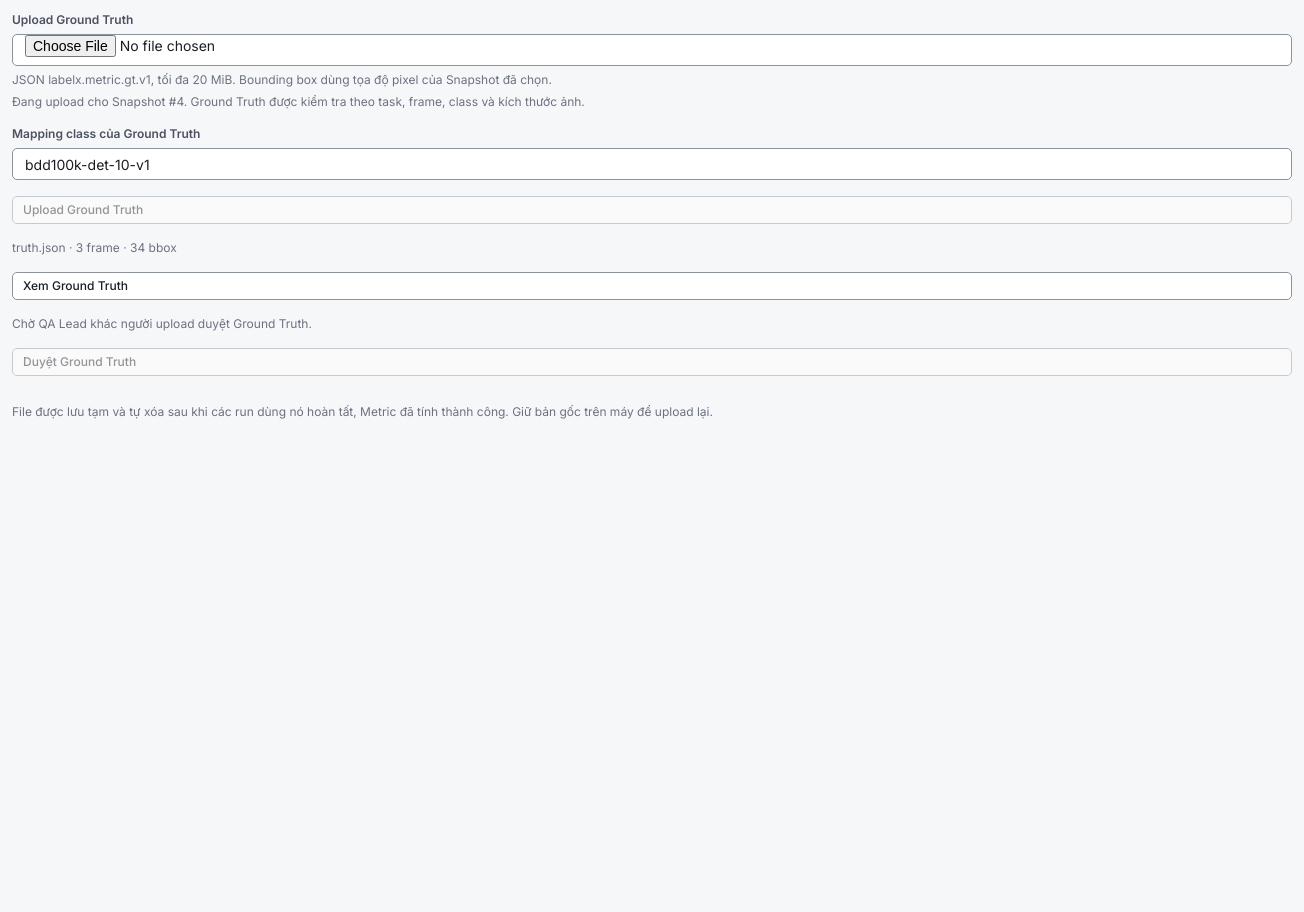
Test: temporary Ground Truth upload › requires preview before approval across snapshots: 4
Expected: the button "Duyệt Ground Truth" is disabled, left=12, top=348, right=1292, bottom=376
Click the button "Xem Ground Truth" at (76, 286), box left=12, top=272, right=1292, bottom=300
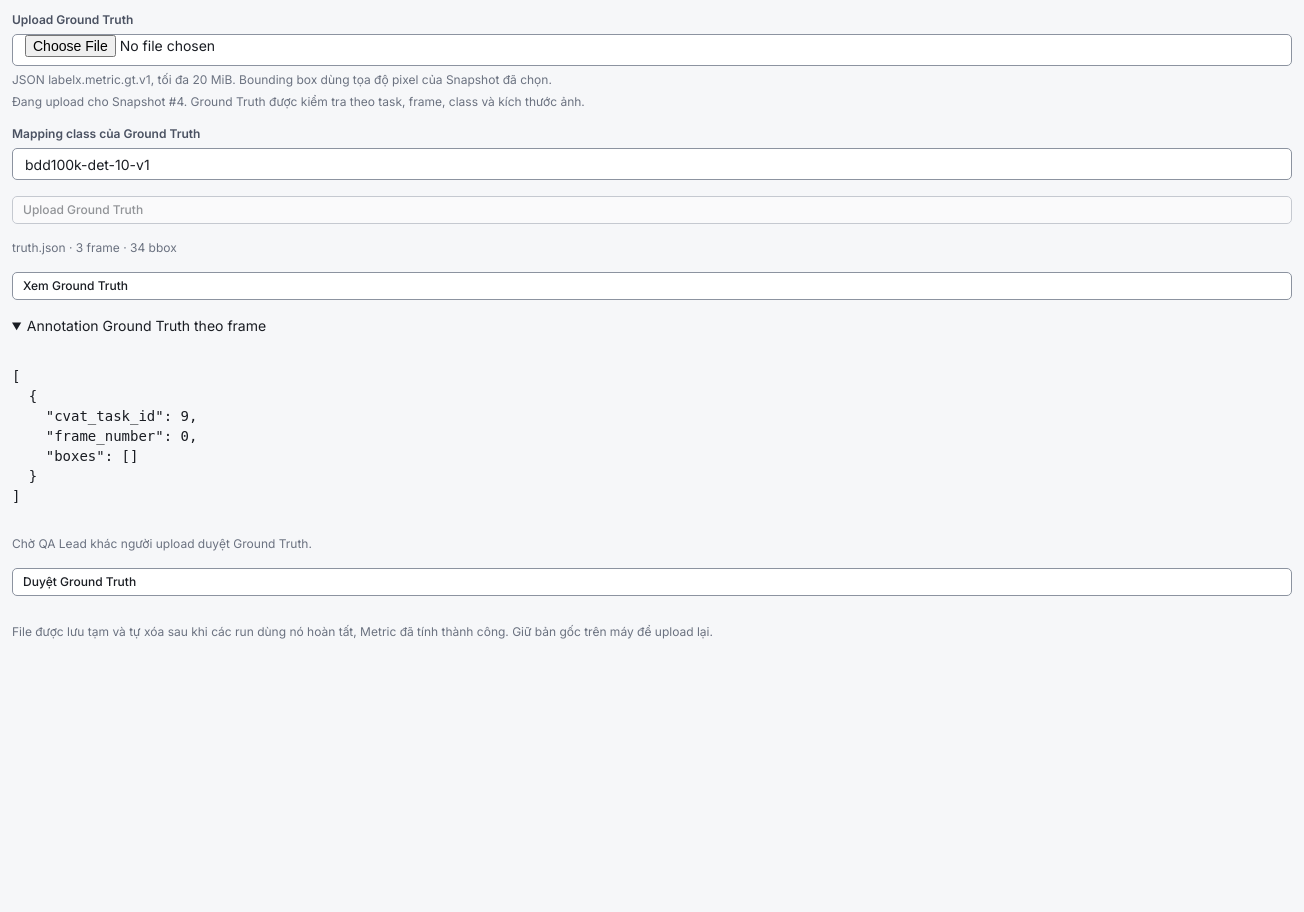
Expected: the button "Duyệt Ground Truth" is enabled
Click the button "Duyệt Ground Truth" at (80, 582), box left=12, top=568, right=1292, bottom=596
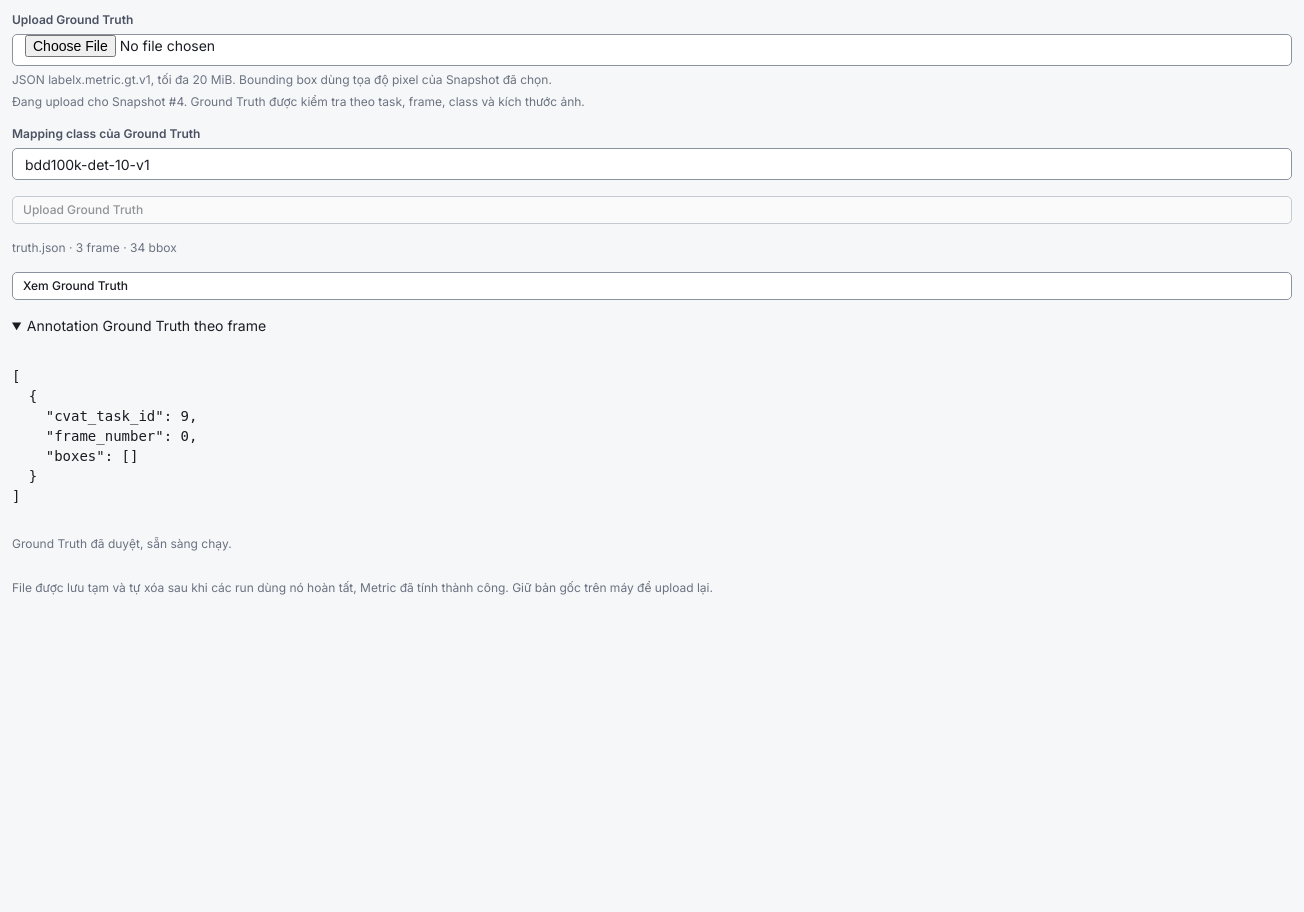
Expected: the text "Ground Truth đã duyệt, sẵn sàng chạy." is shown, left=12, top=536, right=232, bottom=551
